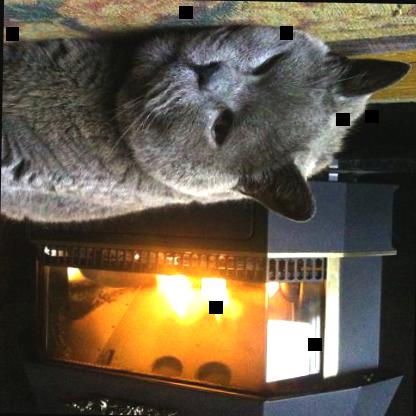cat: (1, 19, 411, 230)
